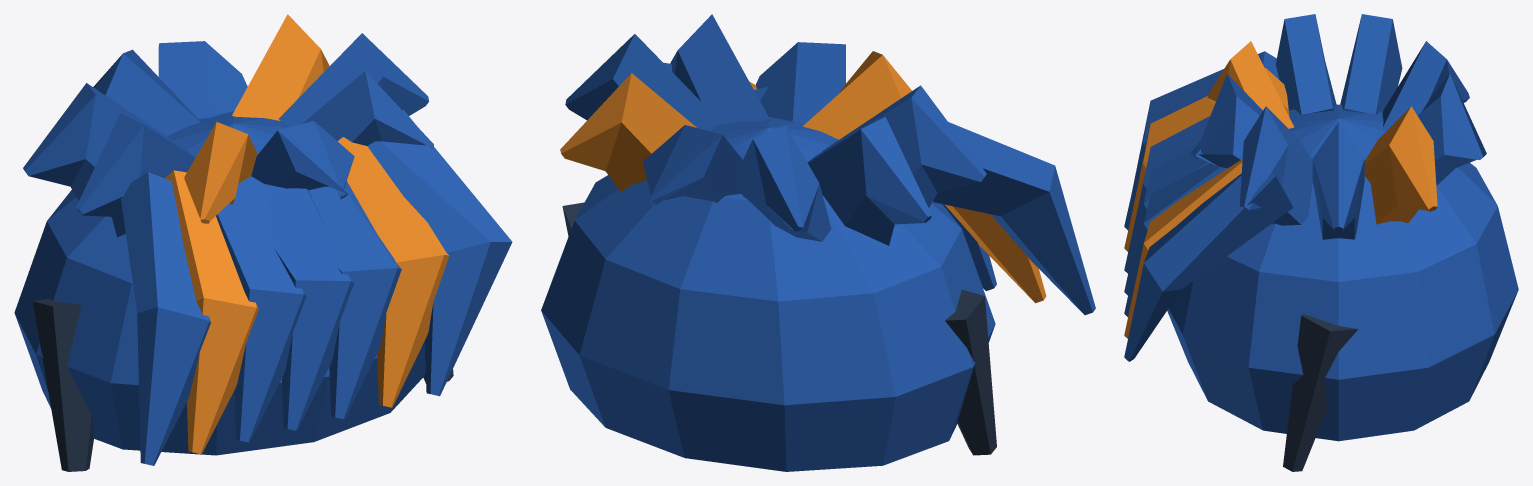
The picture shows the model from 3 angles, left to right: view 1: azimuth 30°, elevation 25°; view 2: azimuth 150°, elevation 25°; view 3: azimuth 270°, elevation 25°; orthographic projection. The views are drawn at different scales.
Visible parts, largest first — view 1: Copa facetada, Mecha da franja, Mecha da franja.006, Mecha da franja.005, Mecha da franja.002, Mecha da franja.003, Mecha da franja.001, Mecha da franja.004, Mecha superior.005, Costeleta, Mecha superior.004, Mecha superior.007 (+6 smaller); view 2: Copa facetada, Mecha da franja, Mecha superior.004, Mecha superior.001, Mecha superior.003, Mecha superior.005, Mecha superior.002, Mecha superior.008, Mecha superior.007, Mecha superior, Costeleta, Mecha superior.006 (+2 smaller); view 3: Copa facetada, Mecha da franja.006, Mecha superior.001, Mecha superior.008, Costeleta.001, Mecha superior, Mecha superior.004, Mecha superior.005, Mecha superior.002, Mecha superior.007, Mecha superior.003, Mecha superior.006 (+6 smaller).
Part boxes in pixels (<box>): Copa facetada: <box>14,111,425,455</box>; Mecha da franja: <box>121,172,210,465</box>; Mecha da franja.006: <box>367,110,512,396</box>; Mecha da franja.005: <box>337,137,449,407</box>; Mecha da franja.002: <box>216,176,306,442</box>; Mecha da franja.003: <box>265,184,353,430</box>; Mecha da franja.001: <box>165,170,258,454</box>; Mecha da franja.004: <box>309,181,401,419</box>; Mecha superior.005: <box>75,113,195,237</box>; Costeleta: <box>32,298,93,471</box>; Mecha superior.004: <box>23,83,181,200</box>; Mecha superior.007: <box>251,121,354,199</box>; Copa facetada: <box>541,117,995,471</box>; Mecha da franja: <box>933,122,1095,315</box>; Mecha superior.004: <box>807,117,931,245</box>; Mecha superior.001: <box>560,73,696,191</box>; Mecha superior.003: <box>741,126,831,241</box>; Mecha superior.005: <box>822,85,986,207</box>; Mecha superior.002: <box>643,125,743,205</box>; Mecha superior.008: <box>670,14,769,125</box>; Mecha superior.007: <box>756,42,845,127</box>; Mecha superior: <box>565,34,721,131</box>; Costeleta: <box>945,289,996,455</box>; Mecha superior.006: <box>803,51,911,139</box>; Copa facetada: <box>1167,104,1518,441</box>; Mecha da franja.006: <box>1124,173,1293,361</box>; Mecha superior.001: <box>1364,106,1437,224</box>; Mecha superior.008: <box>1239,106,1312,225</box>; Costeleta.001: <box>1283,314,1358,471</box>; Mecha superior: <box>1312,122,1364,239</box>; Mecha superior.004: <box>1340,14,1402,115</box>; Mecha superior.005: <box>1275,14,1336,115</box>; Mecha superior.002: <box>1417,74,1486,184</box>; Mecha superior.007: <box>1190,73,1262,168</box>; Mecha superior.003: <box>1382,41,1469,129</box>; Mecha superior.006: <box>1207,41,1293,128</box>.
Size of the model in its own units: 1.05 by 0.8542 by 0.942.
